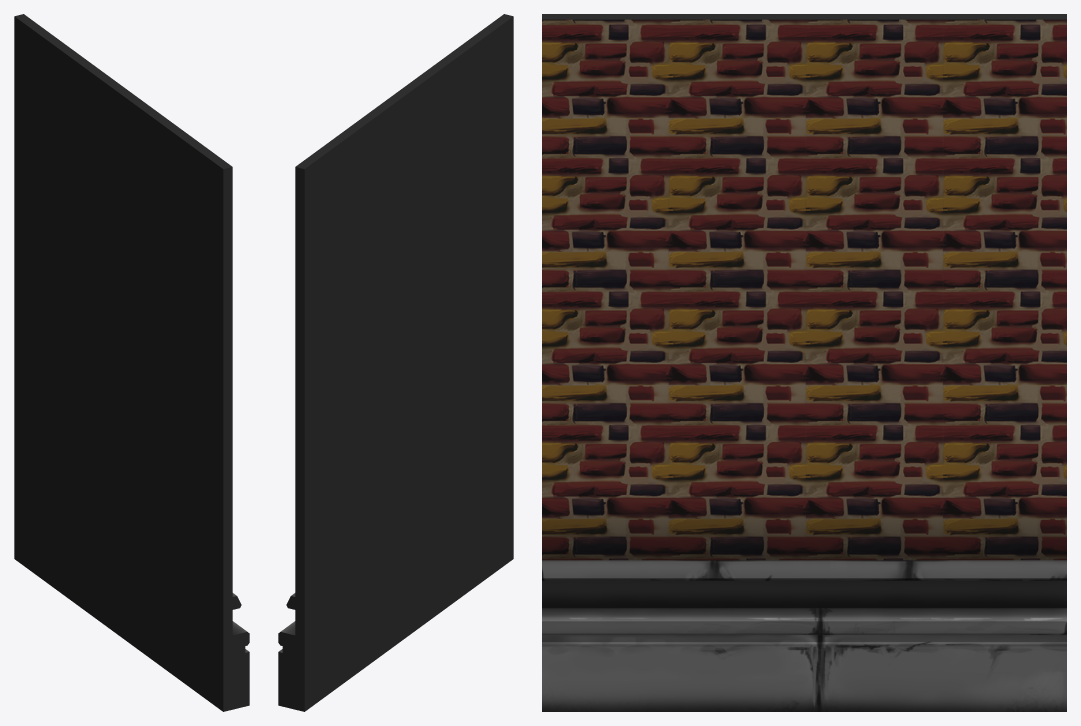
File: Basement_wall 1.fbx
3 renders of one model, left to right at view 1: azimuth 30°, elevation 25°; view 2: azimuth 150°, elevation 25°; view 3: azimuth 270°, elevation 25°, orthographic. The views are drawn at different scales.
Visible parts, largest first — view 1: Wall; view 2: Wall; view 3: Wall.
Boxes of the visible parts, x1,y1,x2,y2 form: Wall: (14,14,249,711); Wall: (278,14,513,711); Wall: (542,14,1066,711).
Size of the model in its own units: 21.36 by 422 by 294.
